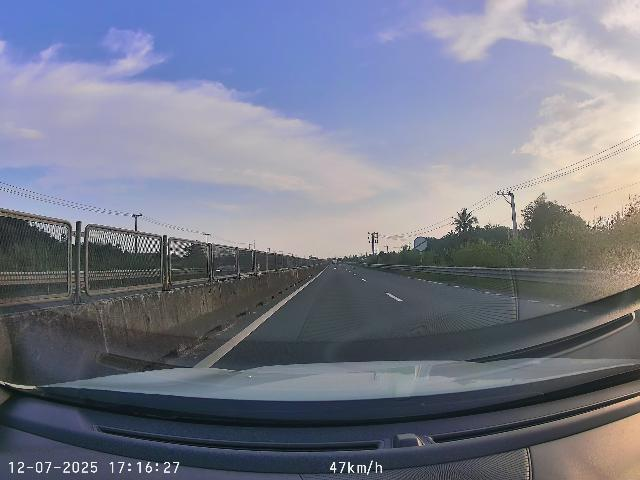135-het-tat-ca-cac-lenh-cam: (413, 236, 428, 251)
